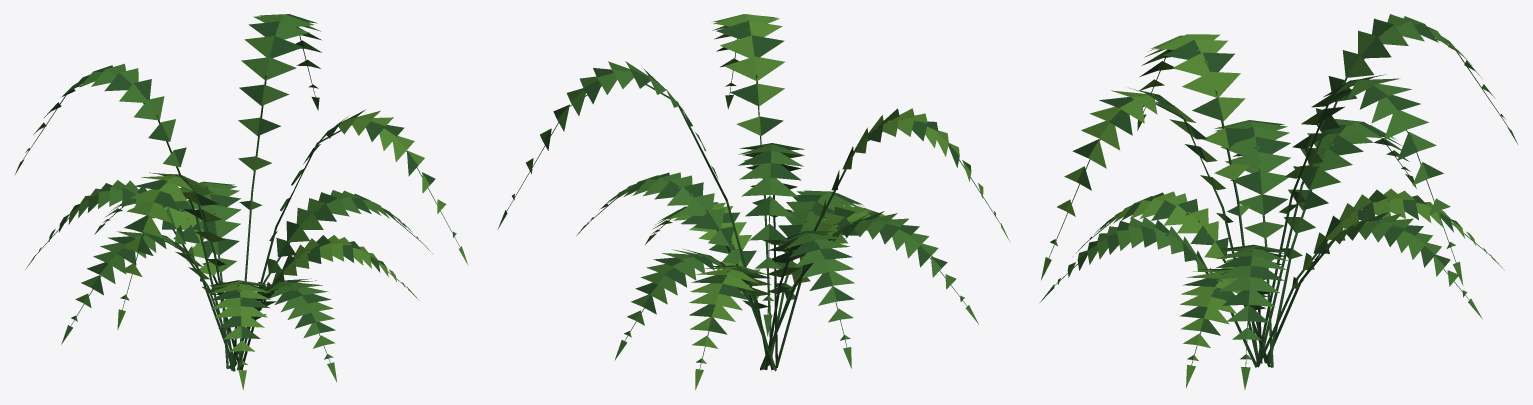
Rendered from fern_full.fbx.
The picture shows the model from 3 angles, left to right: view 1: azimuth 30°, elevation 25°; view 2: azimuth 150°, elevation 25°; view 3: azimuth 270°, elevation 25°; orthographic projection. The views are drawn at different scales.
Parts seen in each view (by area): view 1: fern_full; view 2: fern_full; view 3: fern_full.
Part boxes in pixels (x1=…): fern_full: x1=14, y1=14, x2=468, y2=390; fern_full: x1=497, y1=14, x2=1010, y2=390; fern_full: x1=1040, y1=14, x2=1517, y2=389.
Bounding box in the file's own units: 172 × 128 × 165.
